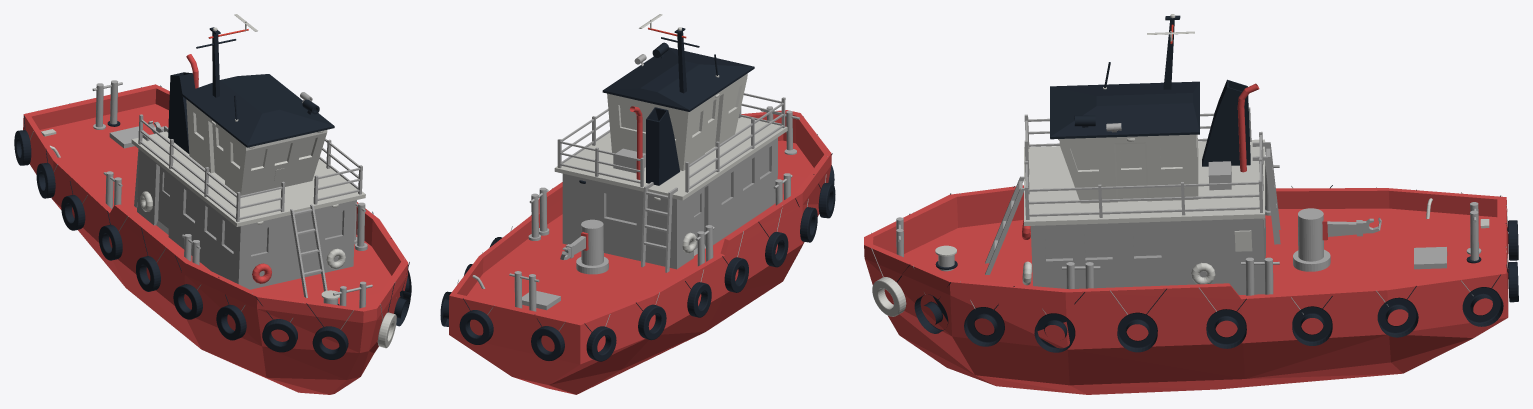
File: low_poly_boat.dae
3 renders of one model, left to right at view 1: azimuth 30°, elevation 25°; view 2: azimuth 150°, elevation 25°; view 3: azimuth 270°, elevation 25°, orthographic. The views are drawn at different scales.
Visible parts, largest first — view 1: node; view 2: node; view 3: node.
Boxes of the visible parts, <box> form: node: <box>14,14,411,394</box>; node: <box>440,14,835,394</box>; node: <box>864,14,1518,394</box>.
Bounding box in the file's own units: 71.03 × 101 × 166.
